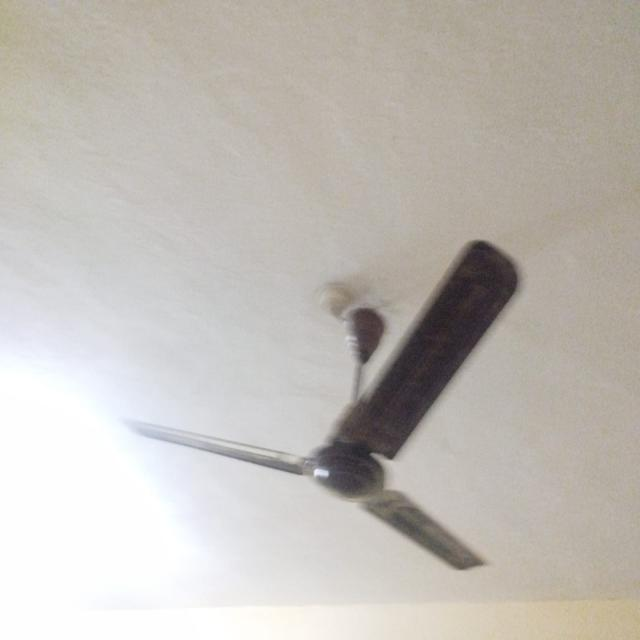fan_off: (134, 244, 551, 576)
